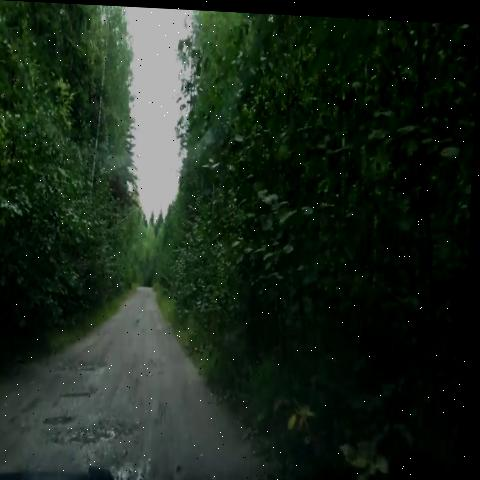pothole: (60, 415, 129, 458), (66, 348, 116, 386), (36, 398, 84, 434), (62, 384, 101, 411)
